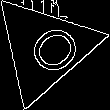O_SW: (10, 15, 79, 81)
